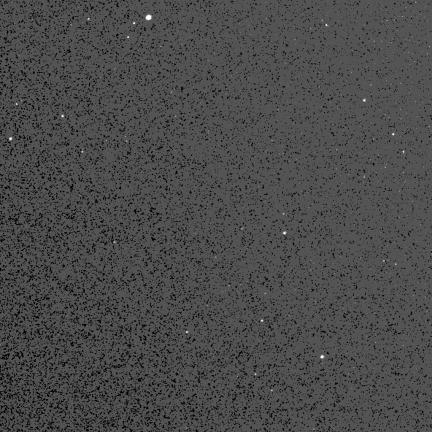blob: (146, 15, 151, 20), (321, 355, 325, 360), (363, 99, 367, 102), (283, 232, 287, 235), (186, 331, 189, 334), (133, 22, 136, 25), (62, 115, 65, 118), (9, 137, 12, 140), (392, 133, 395, 136), (261, 320, 264, 322)
